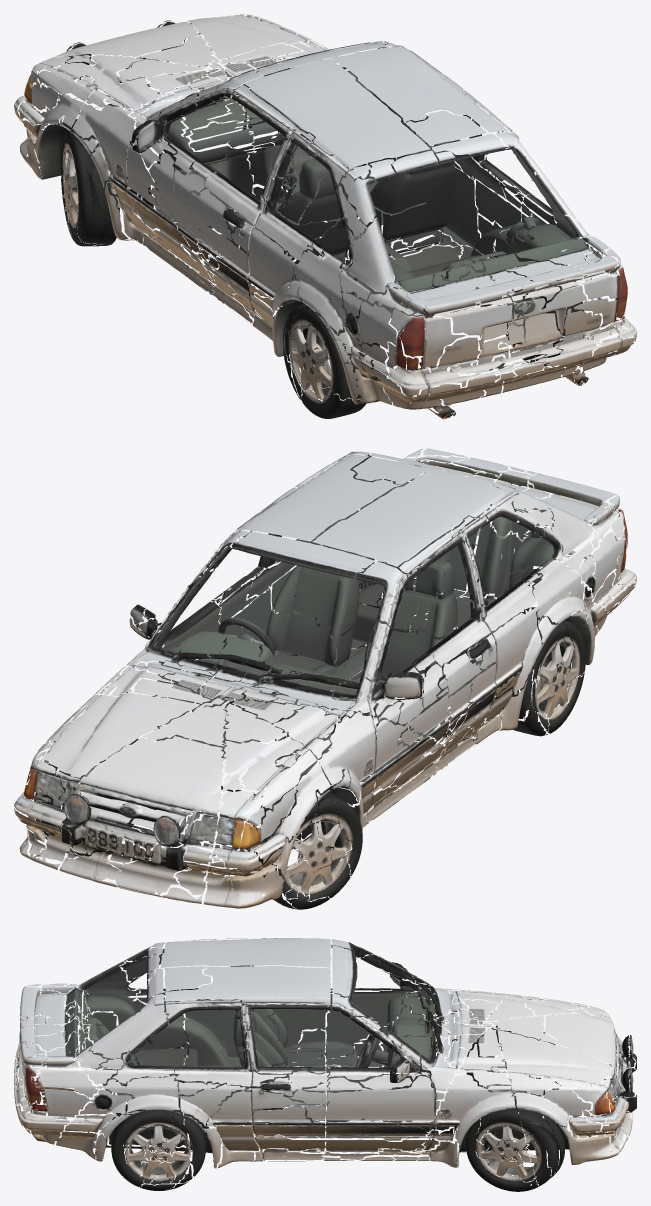
The model's file is ford_escort_rs_turbo.glb.
The picture shows the model from 3 angles, top to bottom: view 1: azimuth 30°, elevation 25°; view 2: azimuth 150°, elevation 25°; view 3: azimuth 270°, elevation 25°; orthographic projection. The views are drawn at different scales.
Parts seen in each view (by area): view 1: Car_Shell, Car_Wheel_LR, Car_Wheel_LF, Car_Wheel_RR; view 2: Car_Shell, Car_Wheel_LF, Car_Wheel_LR, Car_SteeringWheel; view 3: Car_Shell, Car_Wheel_RF, Car_Wheel_RR, Car_SteeringWheel, Car_Wheel_LF.
Part boxes in pixels (x1,y1,x2,y2): Car_Shell: [14, 14, 636, 419]; Car_Wheel_LR: [290, 303, 372, 418]; Car_Wheel_LF: [60, 128, 119, 246]; Car_Wheel_RR: [503, 259, 593, 366]; Car_Shell: [14, 448, 636, 909]; Car_Wheel_LF: [256, 789, 362, 909]; Car_Wheel_LR: [528, 607, 594, 733]; Car_SteeringWheel: [200, 617, 274, 675]; Car_Shell: [14, 938, 636, 1190]; Car_Wheel_RF: [466, 1103, 558, 1191]; Car_Wheel_RR: [95, 1108, 190, 1190]; Car_SteeringWheel: [355, 1026, 395, 1067]; Car_Wheel_LF: [466, 1025, 558, 1109].
Bounding box in the file's own units: 1.72 × 1.37 × 4.2.
1 material, 1 textured.
